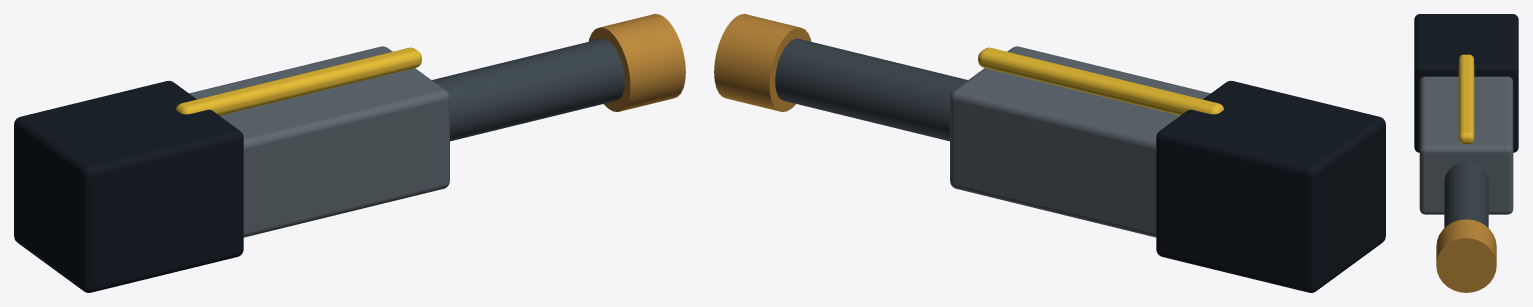
3 renders of one model, left to right at view 1: azimuth 30°, elevation 25°; view 2: azimuth 150°, elevation 25°; view 3: azimuth 270°, elevation 25°, orthographic. The views are drawn at different scales.
Size of the model in its own units: 6.89 by 1.41 by 1.45.
